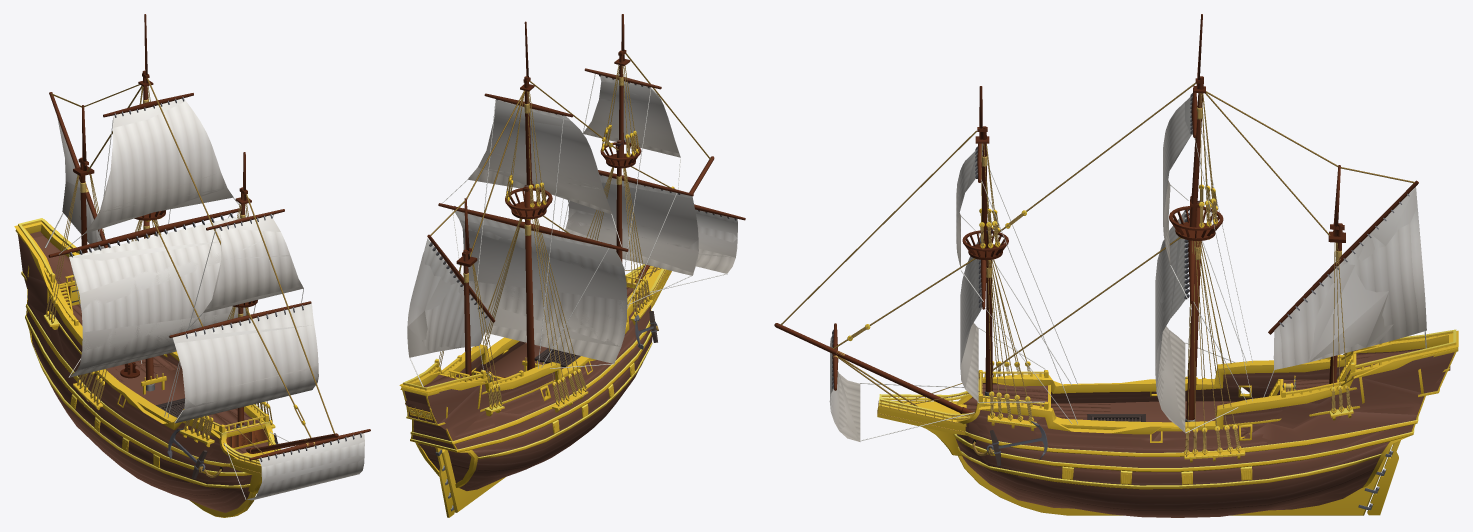
The model's file is Ship Mayflower.fbx.
3 views of the same model, side by side, from view 1: azimuth 30°, elevation 25°; view 2: azimuth 150°, elevation 25°; view 3: azimuth 270°, elevation 25° (orthographic). The views are drawn at different scales.
Visible parts, largest first — view 1: Ship Mayflower high, Ship Mayflower very low, Ship Mayflower low; view 2: Ship Mayflower high, Ship Mayflower very low, Ship Mayflower low; view 3: Ship Mayflower high, Ship Mayflower very low, Ship Mayflower low.
Boxes of the visible parts, box(x1,y1,x2,y2) form: Ship Mayflower high: box(17, 14, 364, 517); Ship Mayflower very low: box(14, 98, 364, 495); Ship Mayflower low: box(15, 70, 370, 512); Ship Mayflower high: box(402, 14, 737, 517); Ship Mayflower very low: box(399, 81, 737, 490); Ship Mayflower low: box(400, 50, 745, 489); Ship Mayflower high: box(780, 14, 1456, 517); Ship Mayflower very low: box(830, 96, 1458, 510); Ship Mayflower low: box(774, 76, 1458, 517).
Size of the model in its own units: 3446 by 7663 by 9487.
Materials: 2 (2 with a texture image).
